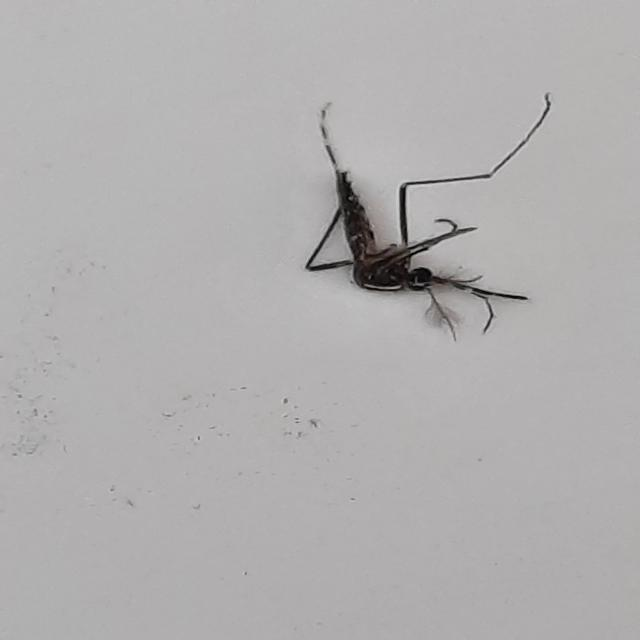albopictus: (277, 85, 556, 337)
